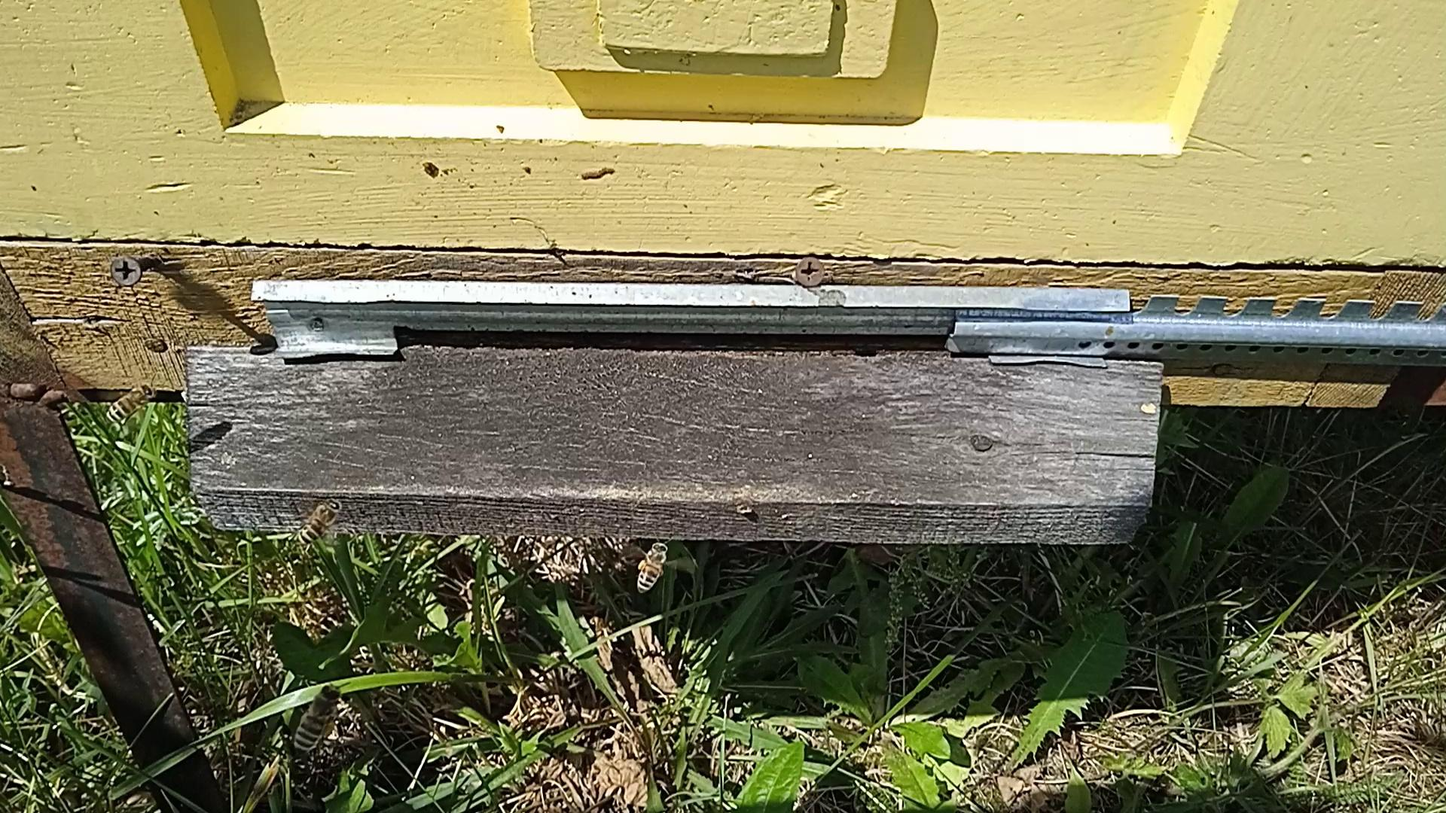worker-bee: (293, 683, 343, 753), (297, 497, 343, 544), (636, 539, 671, 594), (105, 385, 157, 422)
